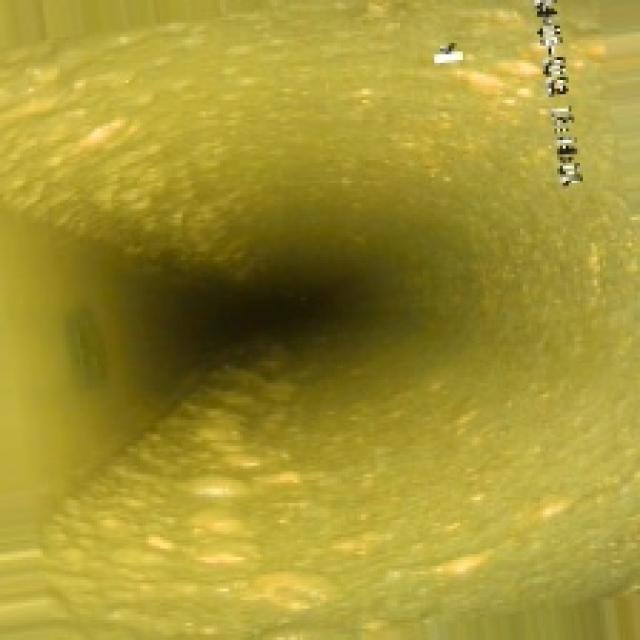encrustation: (40, 72, 534, 597)
